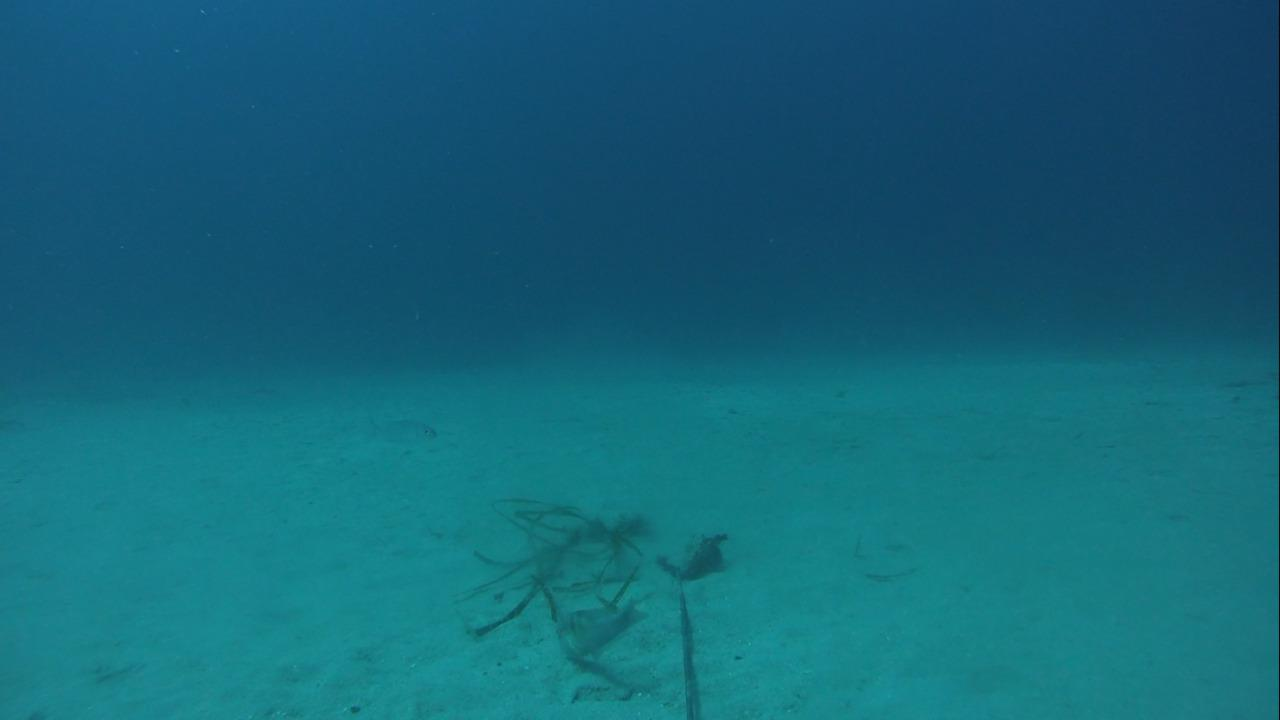raor: (551, 598, 654, 662)
